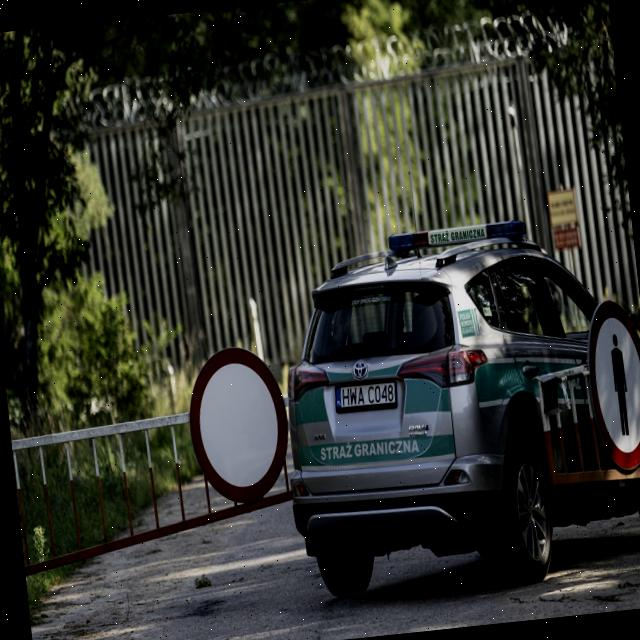number-plates: (332, 377, 400, 418)
